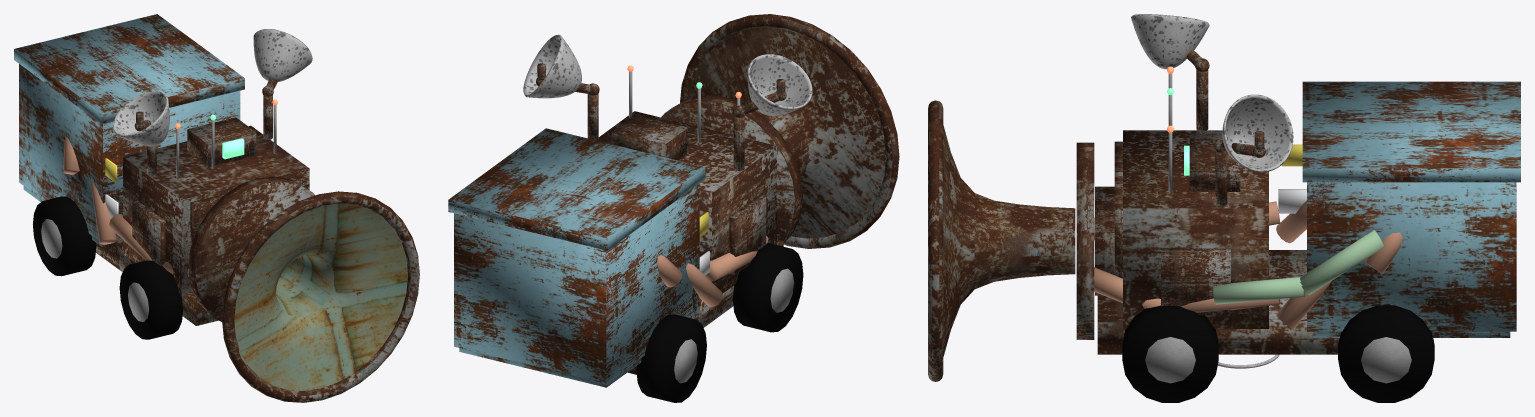
The model's file is garbage-truck.glb.
The picture shows the model from 3 angles, left to right: view 1: azimuth 30°, elevation 25°; view 2: azimuth 150°, elevation 25°; view 3: azimuth 270°, elevation 25°; orthographic projection. The views are drawn at different scales.
Visible parts, largest first — view 1: Intake, HopperRim, Hopper, Cab, IntakeRim, IntakeCollar, WheelFL, WheelRL, DishR, DishL, RoofBox, DoorPanelL (+9 smaller); view 2: Hopper, HopperRim, Intake, Cab, IntakeRim, IntakeCollar, WheelFL, WheelRL, DishL, DishR, RoofBox, DoorPanelL (+9 smaller); view 3: Hopper, HopperRim, Cab, Intake, WheelFR, WheelRR, Chassis, IntakeRim, DishR, DoorPanelR, IntakeCollar, DishL (+16 smaller).
Boxes of the visible parts, x1,y1,x2,y2 form: Intake: (234,203,407,390); HopperRim: (14,14,244,124); Hopper: (19,64,240,240); Cab: (123,125,309,296); IntakeRim: (222,191,419,402); IntakeCollar: (188,176,315,321); WheelFL: (119,260,182,339); WheelRL: (33,196,96,276); DishR: (253,29,312,81); DishL: (113,91,169,146); RoofBox: (187,117,256,167); DoorPanelL: (132,200,165,266); Hopper: (454,184,699,383); HopperRim: (448,128,705,250); Intake: (690,27,885,238); Cab: (598,111,776,293); IntakeRim: (680,14,899,248); IntakeCollar: (661,95,803,243); WheelFL: (733,243,803,332); WheelRL: (636,314,706,402); DishL: (747,54,812,115); DishR: (523,34,581,98); RoofBox: (611,114,688,160); DoorPanelL: (729,194,766,274); Hopper: (1307,182,1516,331); HopperRim: (1302,81,1520,182); Cab: (1123,130,1268,328); Intake: (943,125,1075,356); WheelFR: (1122,305,1218,402); WheelRR: (1338,305,1434,402); Chassis: (1097,250,1339,354); IntakeRim: (928,100,943,381); DishR: (1222,94,1293,172); DoorPanelR: (1161,248,1230,315); IntakeCollar: (1076,142,1094,339); DishL: (1131,14,1209,69).
Bounding box in the file's own units: 2.5 × 2.79 × 4.67.
Materials: 18 (6 with a texture image).
